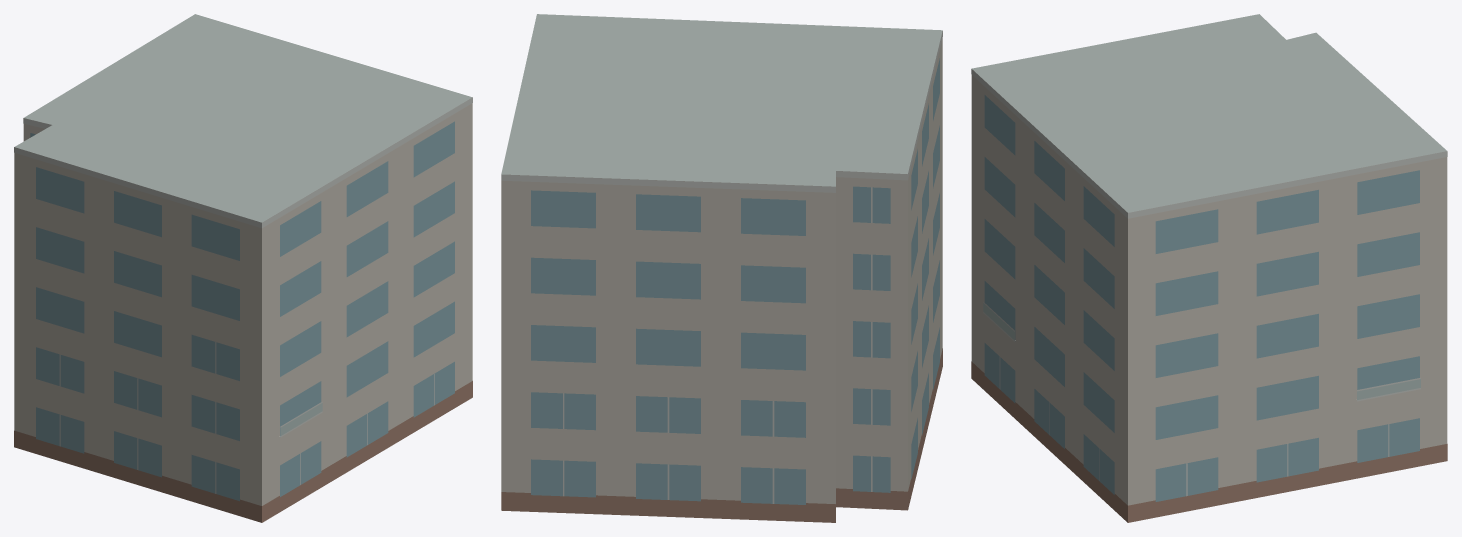
Rendered from survey-upis-32724972.glb.
3 renders of one model, left to right at view 1: azimuth 30°, elevation 25°; view 2: azimuth 150°, elevation 25°; view 3: azimuth 270°, elevation 25°, orthographic. The views are drawn at different scales.
Parts seen in each view (by area): view 1: survey-upis-32724972.tmp; view 2: survey-upis-32724972.tmp; view 3: survey-upis-32724972.tmp.
Boxes of the visible parts, <box> form: survey-upis-32724972.tmp: <box>14,14,472,522</box>; survey-upis-32724972.tmp: <box>501,14,942,522</box>; survey-upis-32724972.tmp: <box>971,14,1447,522</box>.
Size of the model in its own units: 17.9 by 13 by 18.1.
